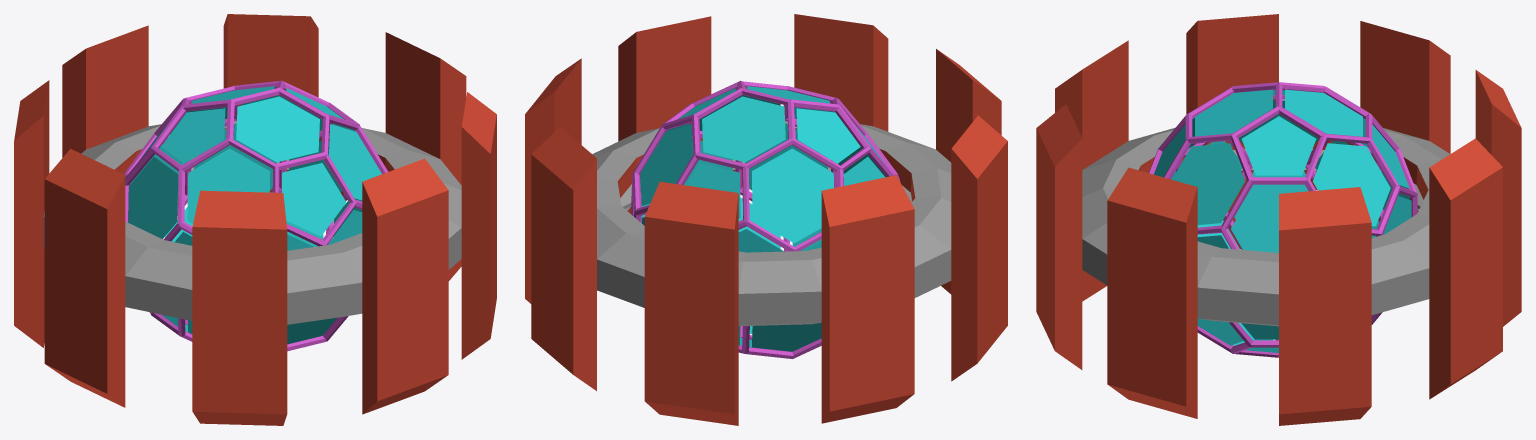
File: Orb.fbx
3 views of the same model, side by side, from view 1: azimuth 30°, elevation 25°; view 2: azimuth 150°, elevation 25°; view 3: azimuth 270°, elevation 25° (orthographic).
Visible parts, largest first — view 1: Cylinder, Solid, Solid.001; view 2: Cylinder, Solid, Solid.001; view 3: Cylinder, Solid, Solid.001.
Part boxes in pixels (x1,y1,x2,y2): Cylinder: [14, 14, 496, 425]; Solid: [128, 86, 381, 344]; Solid.001: [124, 80, 388, 351]; Cylinder: [525, 14, 1007, 425]; Solid: [640, 86, 886, 351]; Solid.001: [631, 80, 900, 358]; Cylinder: [1036, 14, 1521, 425]; Solid: [1154, 89, 1411, 352]; Solid.001: [1149, 82, 1417, 357].
Bounding box in the file's own units: 1224 × 700 × 1224.
